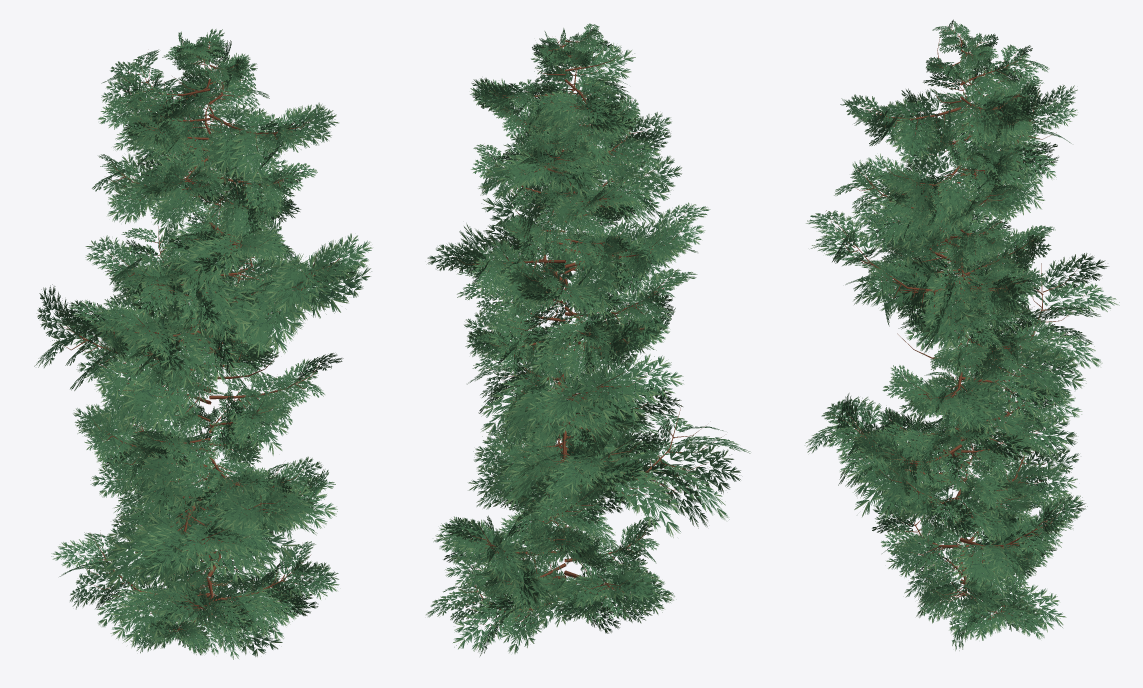
The model's file is forest-pine-lod1.glb.
3 views of the same model, side by side, from view 1: azimuth 30°, elevation 25°; view 2: azimuth 150°, elevation 25°; view 3: azimuth 270°, elevation 25° (orthographic). The views are drawn at different scales.
Parts seen in each view (by area): view 1: redwood-crown; view 2: redwood-crown; view 3: redwood-crown.
Boxes of the visible parts, x1,y1,x2,y2 form: redwood-crown: (34, 29, 372, 659); redwood-crown: (426, 23, 750, 655); redwood-crown: (805, 19, 1119, 650).
Size of the model in its own units: 18.19 by 38.68 by 19.55.
Materials: 4 (3 with a texture image).
